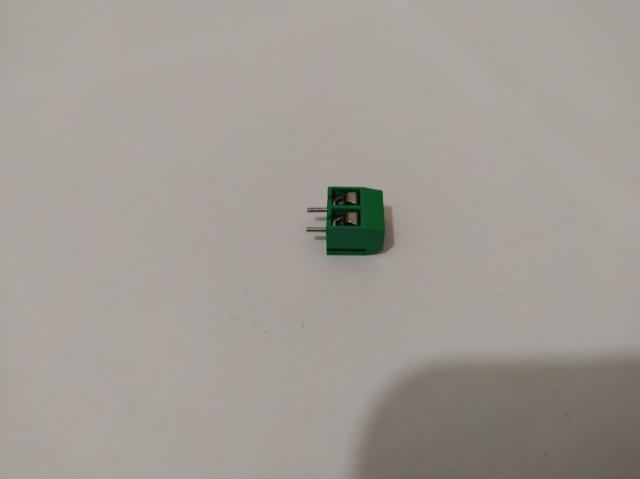terminal_block: (307, 186, 385, 254)
